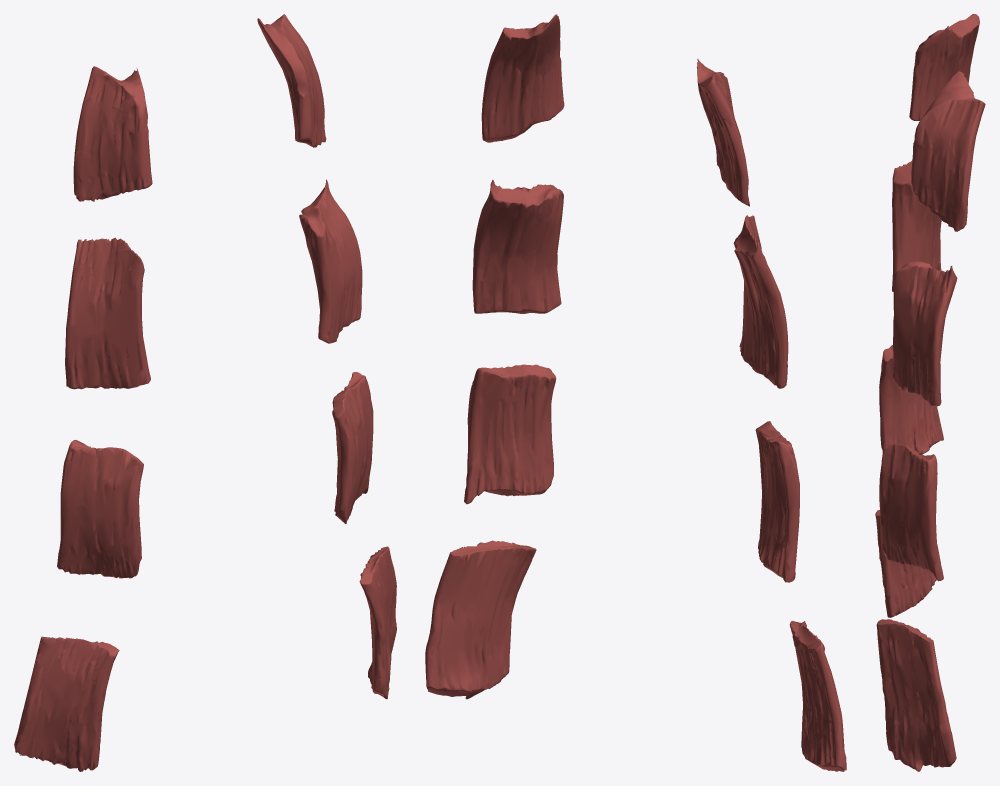
Rendered from FMA76775.glb.
The picture shows the model from 3 angles, left to right: view 1: azimuth 30°, elevation 25°; view 2: azimuth 150°, elevation 25°; view 3: azimuth 270°, elevation 25°; orthographic projection. The views are drawn at different scales.
Parts seen in each view (by area): view 1: FMA76775; view 2: FMA76775; view 3: FMA76775.
Boxes of the visible parts, <box> form: FMA76775: <box>14,14,396,771</box>; FMA76775: <box>425,14,846,771</box>; FMA76775: <box>875,14,985,771</box>.
Size of the model in its own units: 0.0692 by 0.117 by 0.0179.
